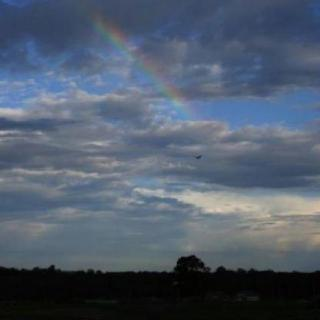Altocumulus: (0, 0, 320, 262)
